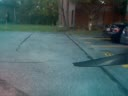window: (14, 1, 125, 95)
